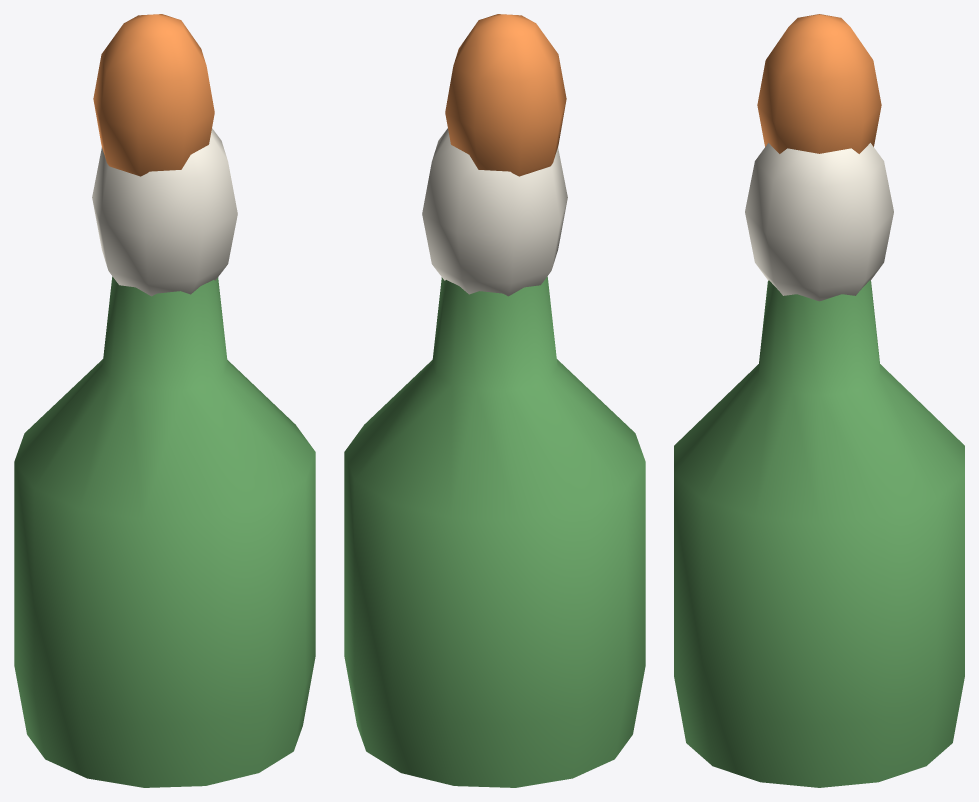
Rendered from Molotov.fbx.
3 renders of one model, left to right at view 1: azimuth 30°, elevation 25°; view 2: azimuth 150°, elevation 25°; view 3: azimuth 270°, elevation 25°, orthographic.
Visible parts, largest first — view 1: molotov; view 2: molotov; view 3: molotov.
Part boxes in pixels (box(x1,y1,x2,y2)): molotov: box(14, 14, 315, 787); molotov: box(344, 14, 645, 787); molotov: box(674, 14, 964, 787).
Bounding box in the file's own units: 0.24 × 0.63 × 0.234.
